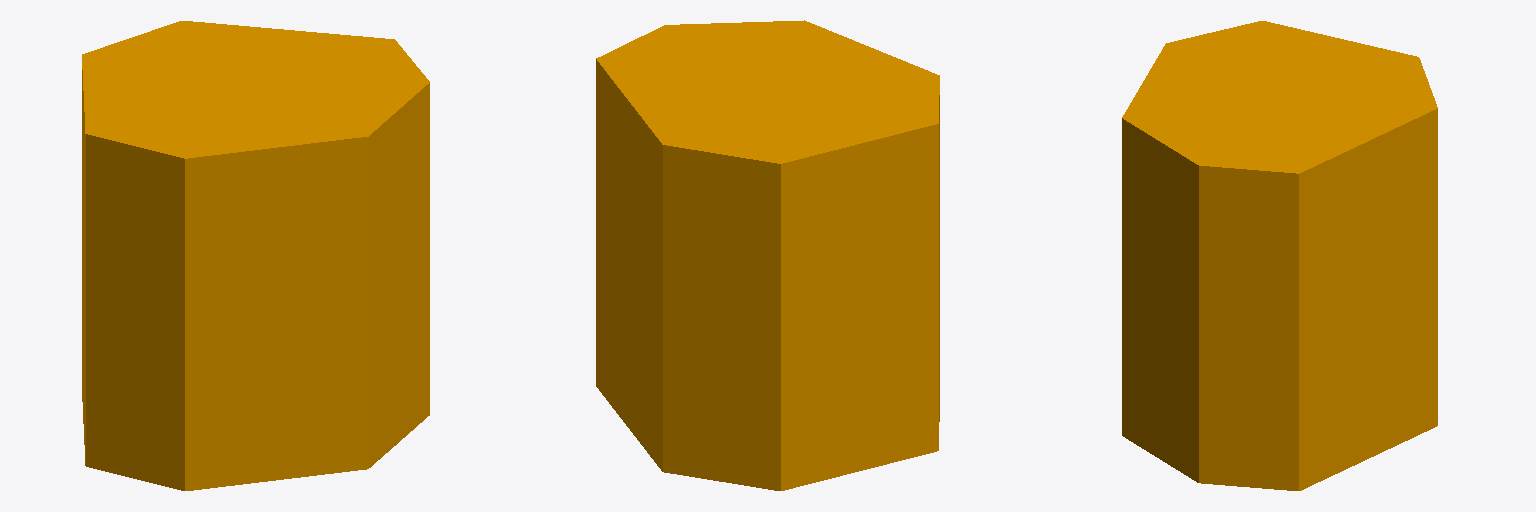
URDF robot description (object):
<?xml version="1.0"?>
<robot name="object">
  <link name="object">
    <visual>
      <origin xyz="0 0 0"/>
      <geometry>
        <mesh filename="meshes/generated/col_103.obj" scale="0.03 0.03 0.03"/>
      </geometry>
    </visual>
    <collision>
      <origin xyz="0 0 0"/>
      <geometry>
        <mesh filename="meshes/generated/col_103.obj" scale="0.03 0.03 0.03"/>
      </geometry>
    </collision>
    <inertial>
      <density value="1000.0"/>
    </inertial>
  </link>
</robot>

--- Render facts (derived) ---
Views: 3 orthographic renders of the robot side by side, from view 1: azimuth 30°, elevation 25°; view 2: azimuth 150°, elevation 25°; view 3: azimuth 270°, elevation 25°.
Model object with 1 links and 0 joints (none), rooted at object, posed every joint at zero.
Links seen in each view (by area): view 1: object; view 2: object; view 3: object.
Boxes of the visible links, left/top/right/bottom form: object: left=82, top=21, right=429, bottom=490; object: left=596, top=20, right=939, bottom=490; object: left=1122, top=21, right=1437, bottom=490.
Bounding box of the posed robot: 0.0621 × 0.0541 × 0.06 m (x, y, z).
1 mesh visuals loaded from 1 distinct referenced files (1 OBJ).
